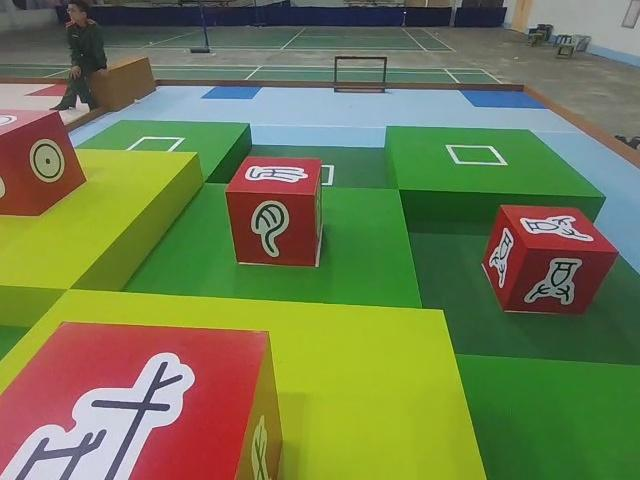R2 Fake: (224, 154, 323, 268)
R2 Real: (1, 320, 282, 480), (481, 202, 619, 316), (0, 105, 87, 218)
